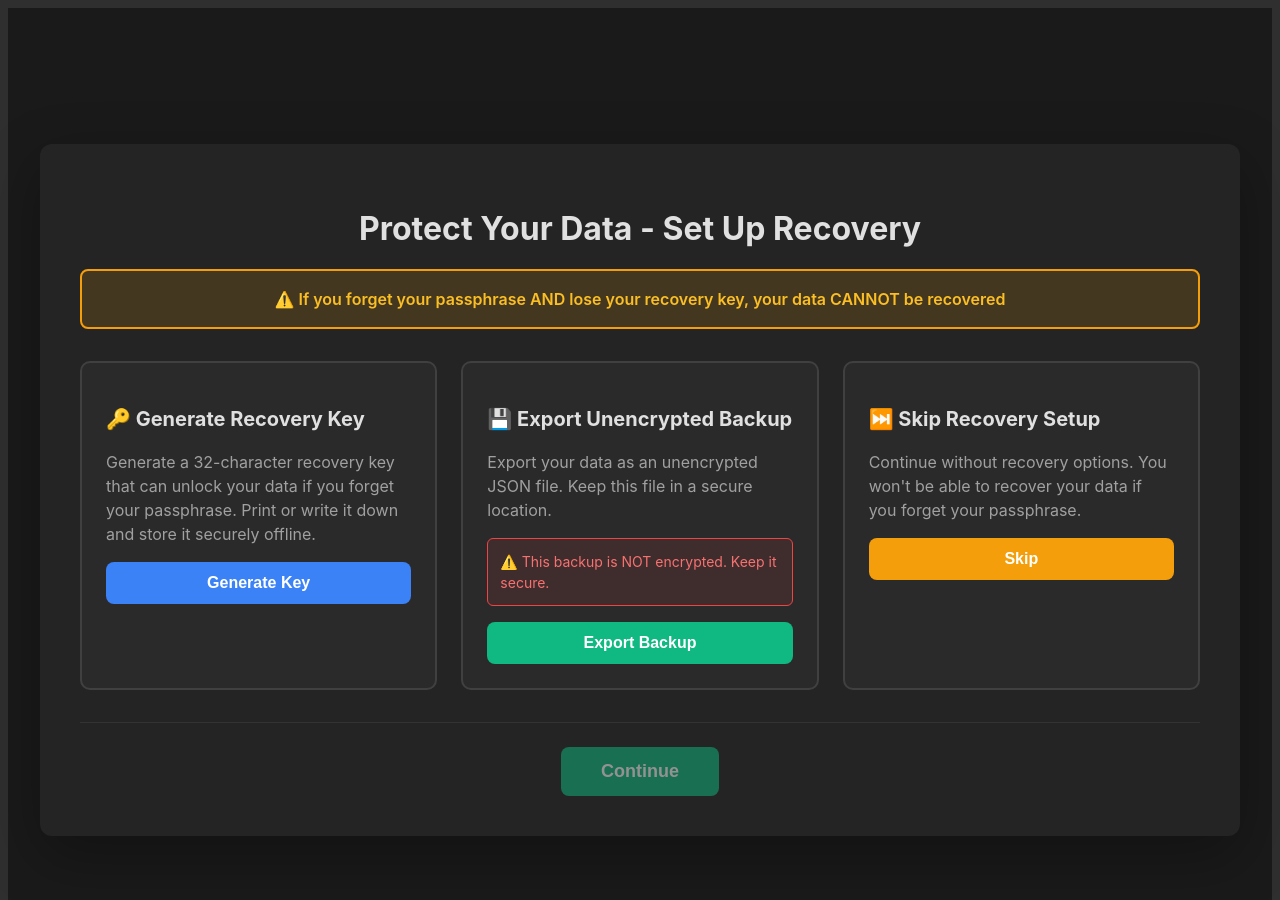
RecoveryOptions › shows error on generation failure
The image size is (1280, 900).
Click the button "Generate Key" at (259, 583), box x1=106 y1=562 x2=411 y2=604
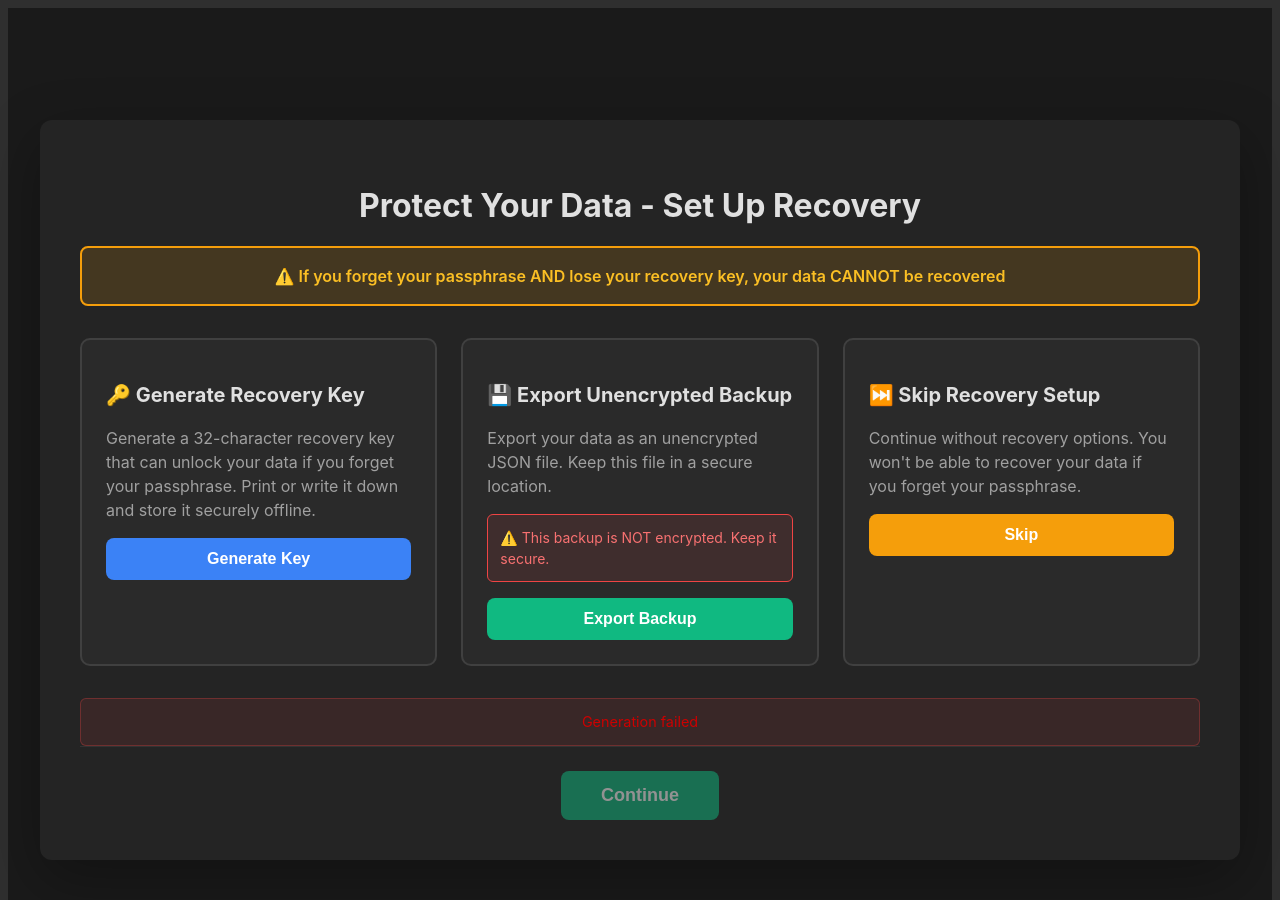
Expected: the text "Generation failed" is shown, x1=80 y1=698 x2=1200 y2=746
